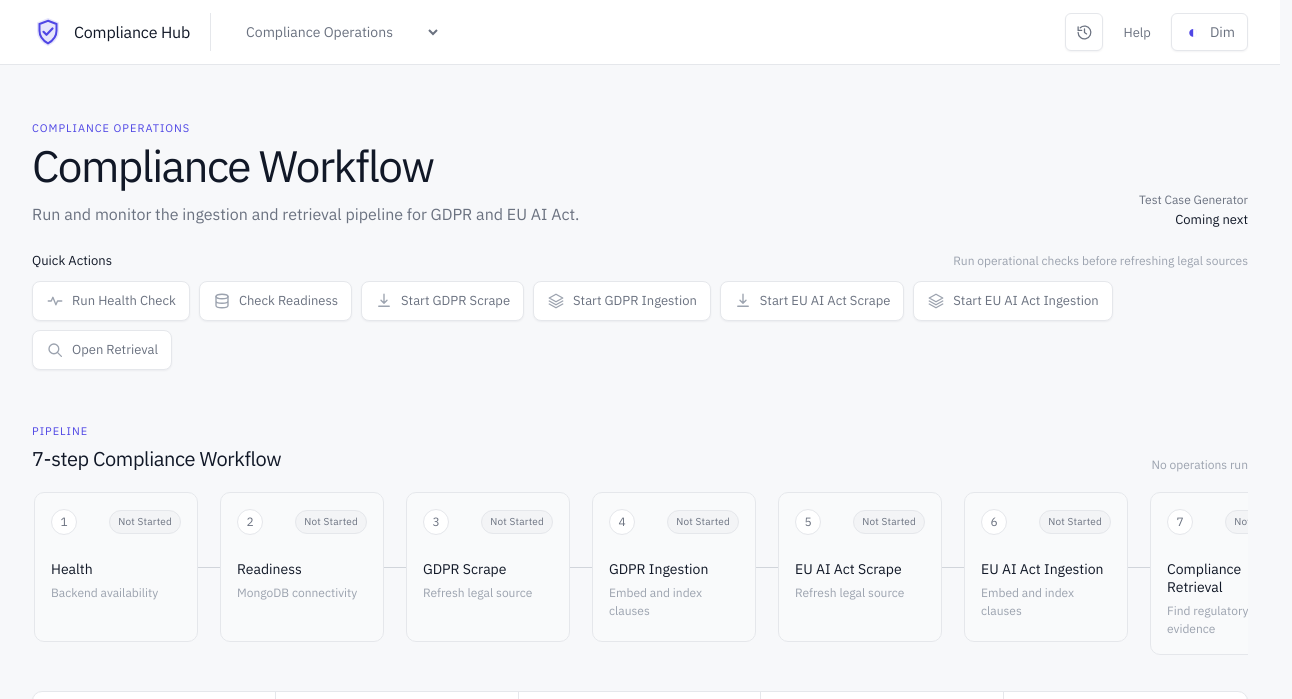
Scenario: compliance retrieval UI › opens retrieval from Quick Actions with the configured defaults
Step 1. Click the button "Open Retrieval" → (102, 350), box [32, 330, 172, 370]
(page scrolled)
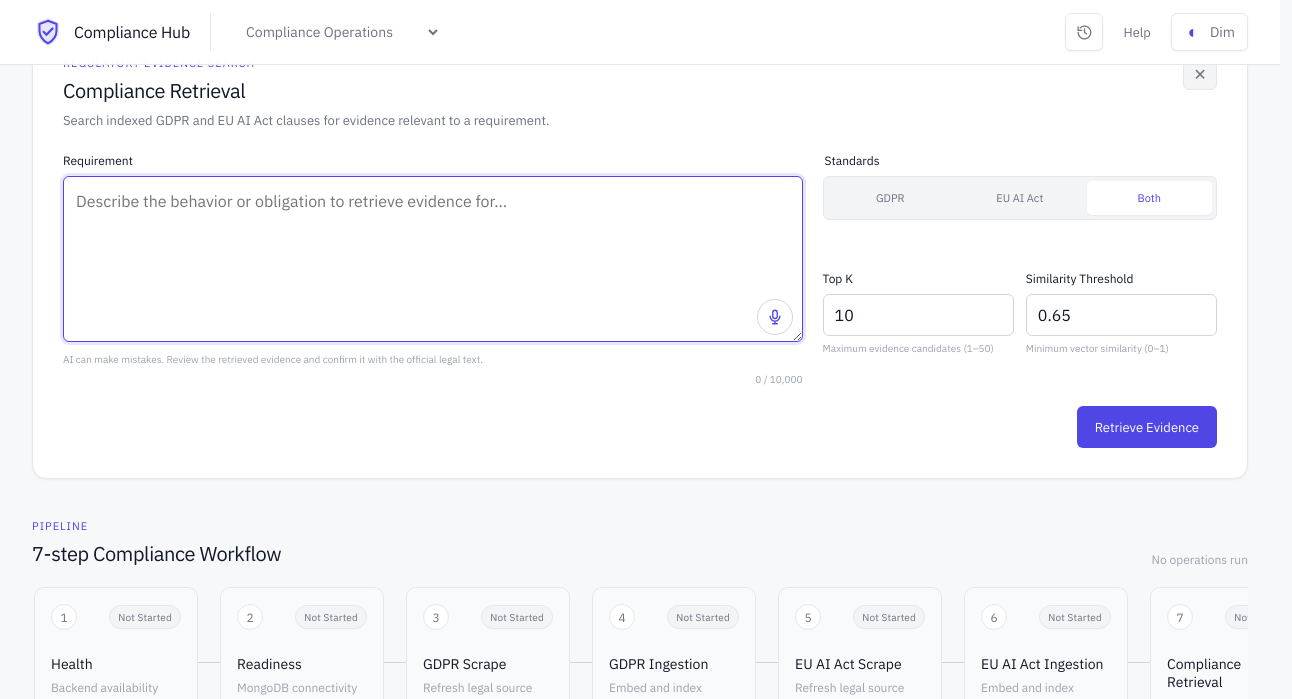
Now the heading "Compliance Retrieval" below "Regulatory evidence search" is shown, box [63, 77, 245, 104]
Now the text box labelled "Requirement" is empty, box [63, 176, 803, 342]
Now the radio button labelled "Both" is checked, box [1086, 181, 1212, 215]
